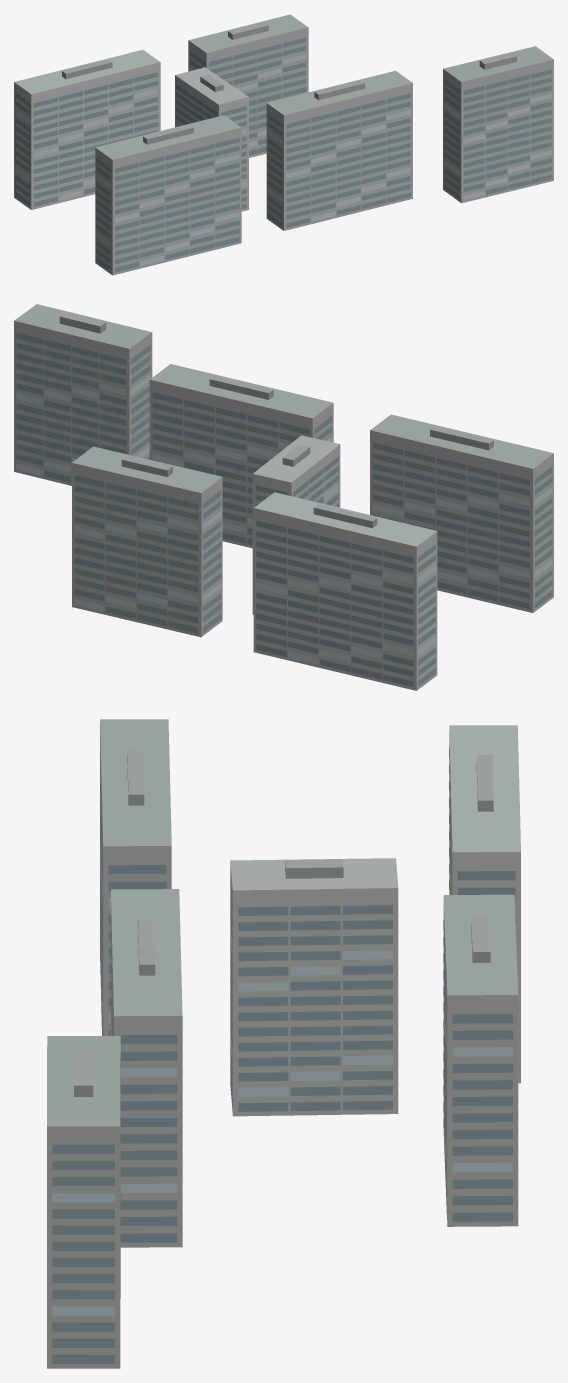
File: apt-a14277601.glb
The picture shows the model from 3 angles, top to bottom: view 1: azimuth 30°, elevation 25°; view 2: azimuth 150°, elevation 25°; view 3: azimuth 270°, elevation 25°; orthographic projection. The views are drawn at different scales.
Visible parts, largest first — view 1: apt-a14277601; view 2: apt-a14277601; view 3: apt-a14277601.
Boxes of the visible parts, x1,y1,x2,y2 form: apt-a14277601: (14, 14, 553, 275); apt-a14277601: (14, 304, 553, 690); apt-a14277601: (47, 719, 520, 1368).
Bounding box in the file's own units: 155 × 44 × 74.54.
